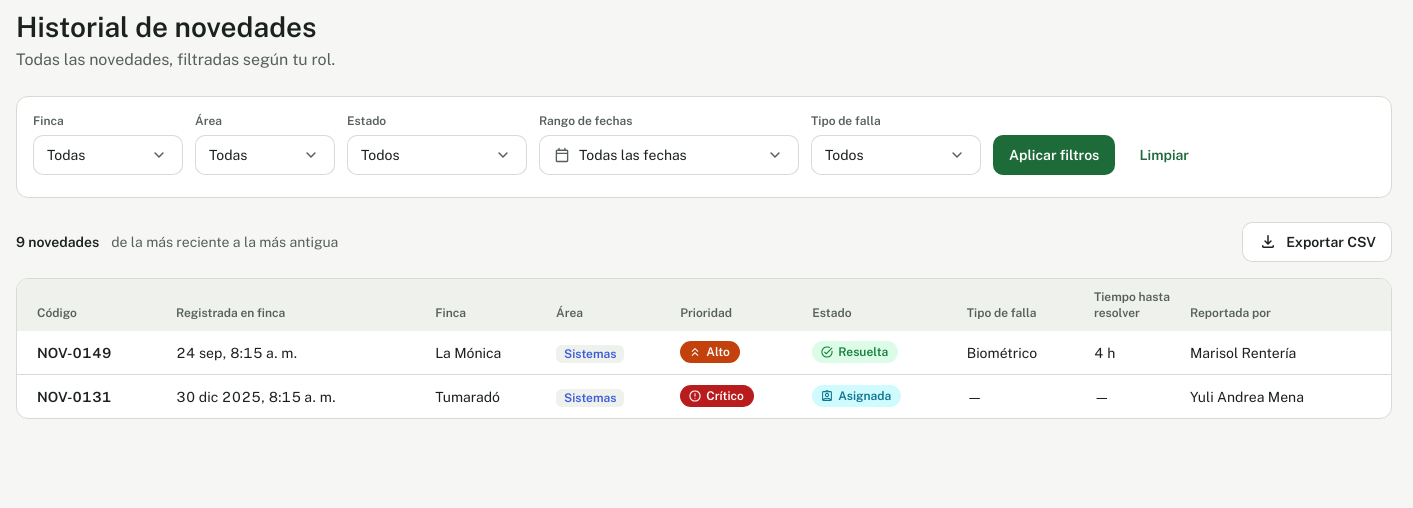
it: Exportar CSV (RF-20 / CU-20) › RF-20: si algo falla a mitad, no descarga nada y lo dice
Click the button "Exportar CSV".
click(1317, 242)  # box x1=1242 y1=222 x2=1392 y2=262
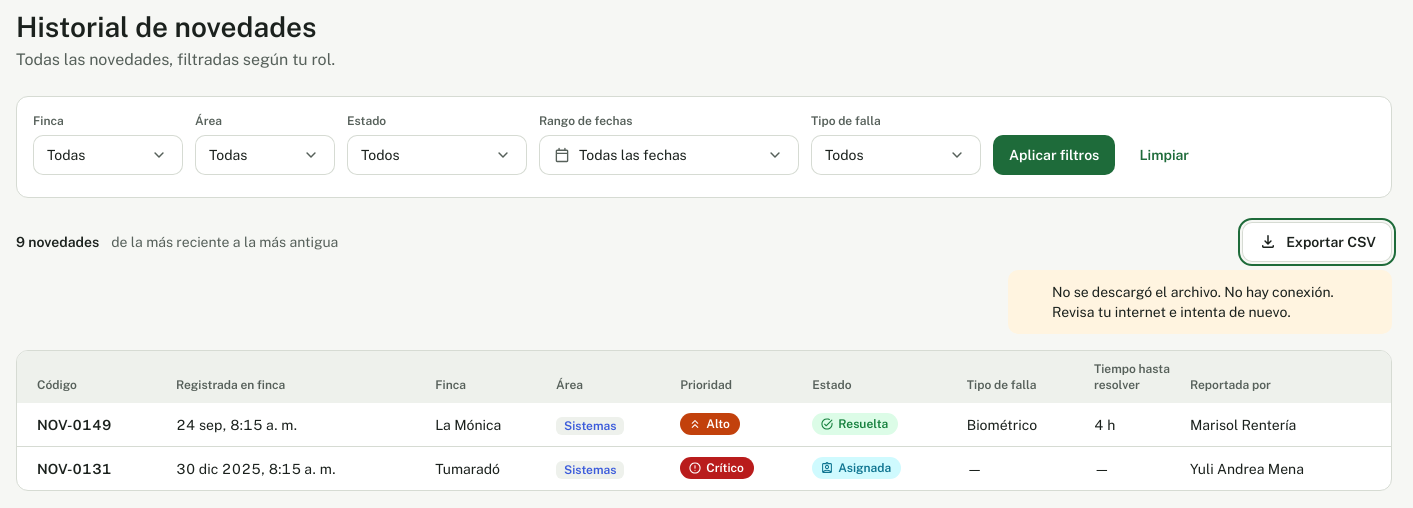
Result: the message that starts with "No se descargó el archivo." shows "No se descargó el archivo. No hay conexión. Revisa tu internet e intenta de nuevo." at x1=1008 y1=270 x2=1392 y2=334
